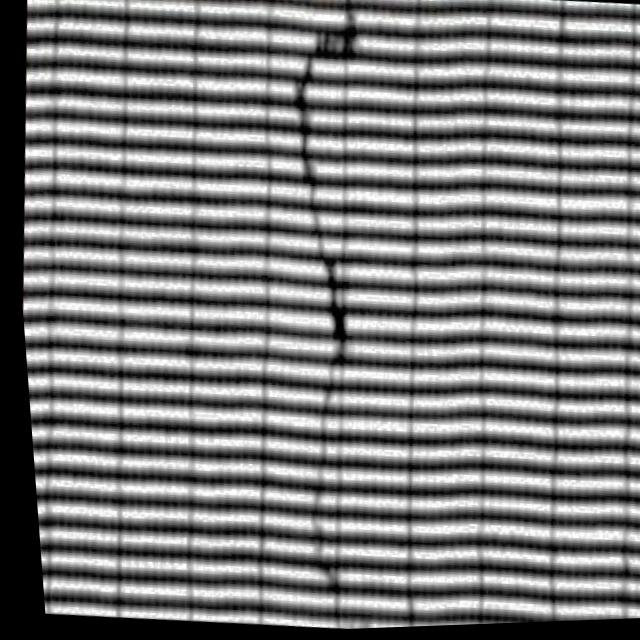Stitch: (230, 0, 444, 387)
